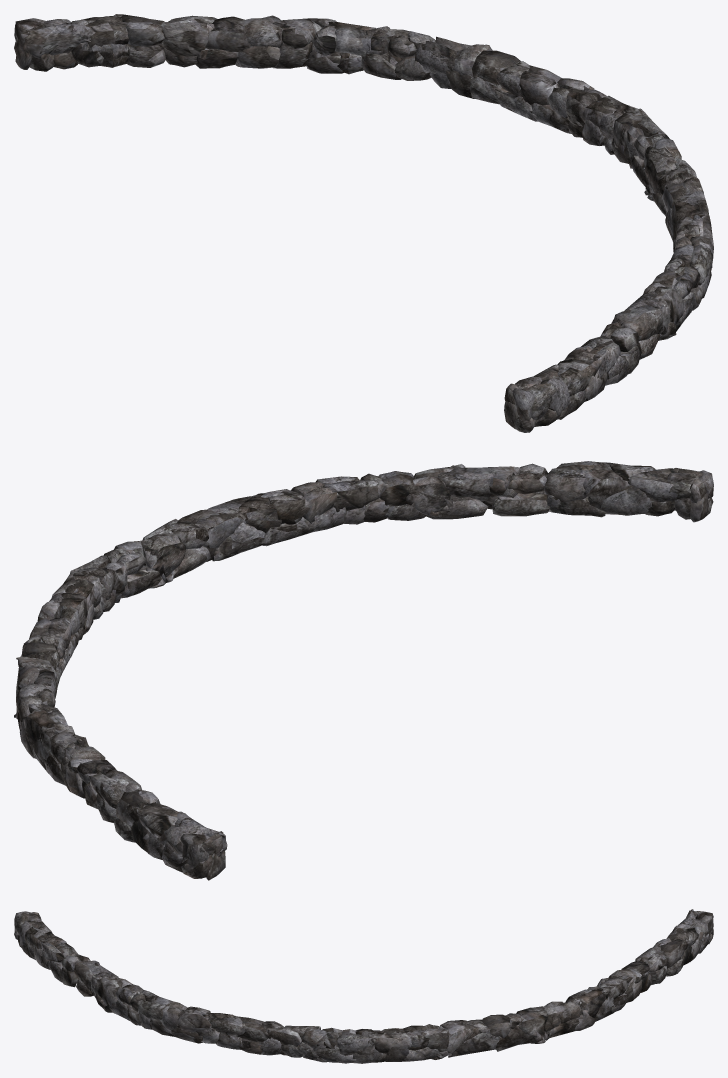
Rendered from Pierre_Cascade.fbx.
The picture shows the model from 3 angles, top to bottom: view 1: azimuth 30°, elevation 25°; view 2: azimuth 150°, elevation 25°; view 3: azimuth 270°, elevation 25°; orthographic projection. The views are drawn at different scales.
Visible parts, largest first — view 1: BezierCurve_crack; view 2: BezierCurve_crack; view 3: BezierCurve_crack.
Boxes of the visible parts, <box> form: BezierCurve_crack: <box>14,14,713,432</box>; BezierCurve_crack: <box>14,461,713,880</box>; BezierCurve_crack: <box>14,909,713,1063</box>.
Bounding box in the file's own units: 582 × 64.61 × 1328.
